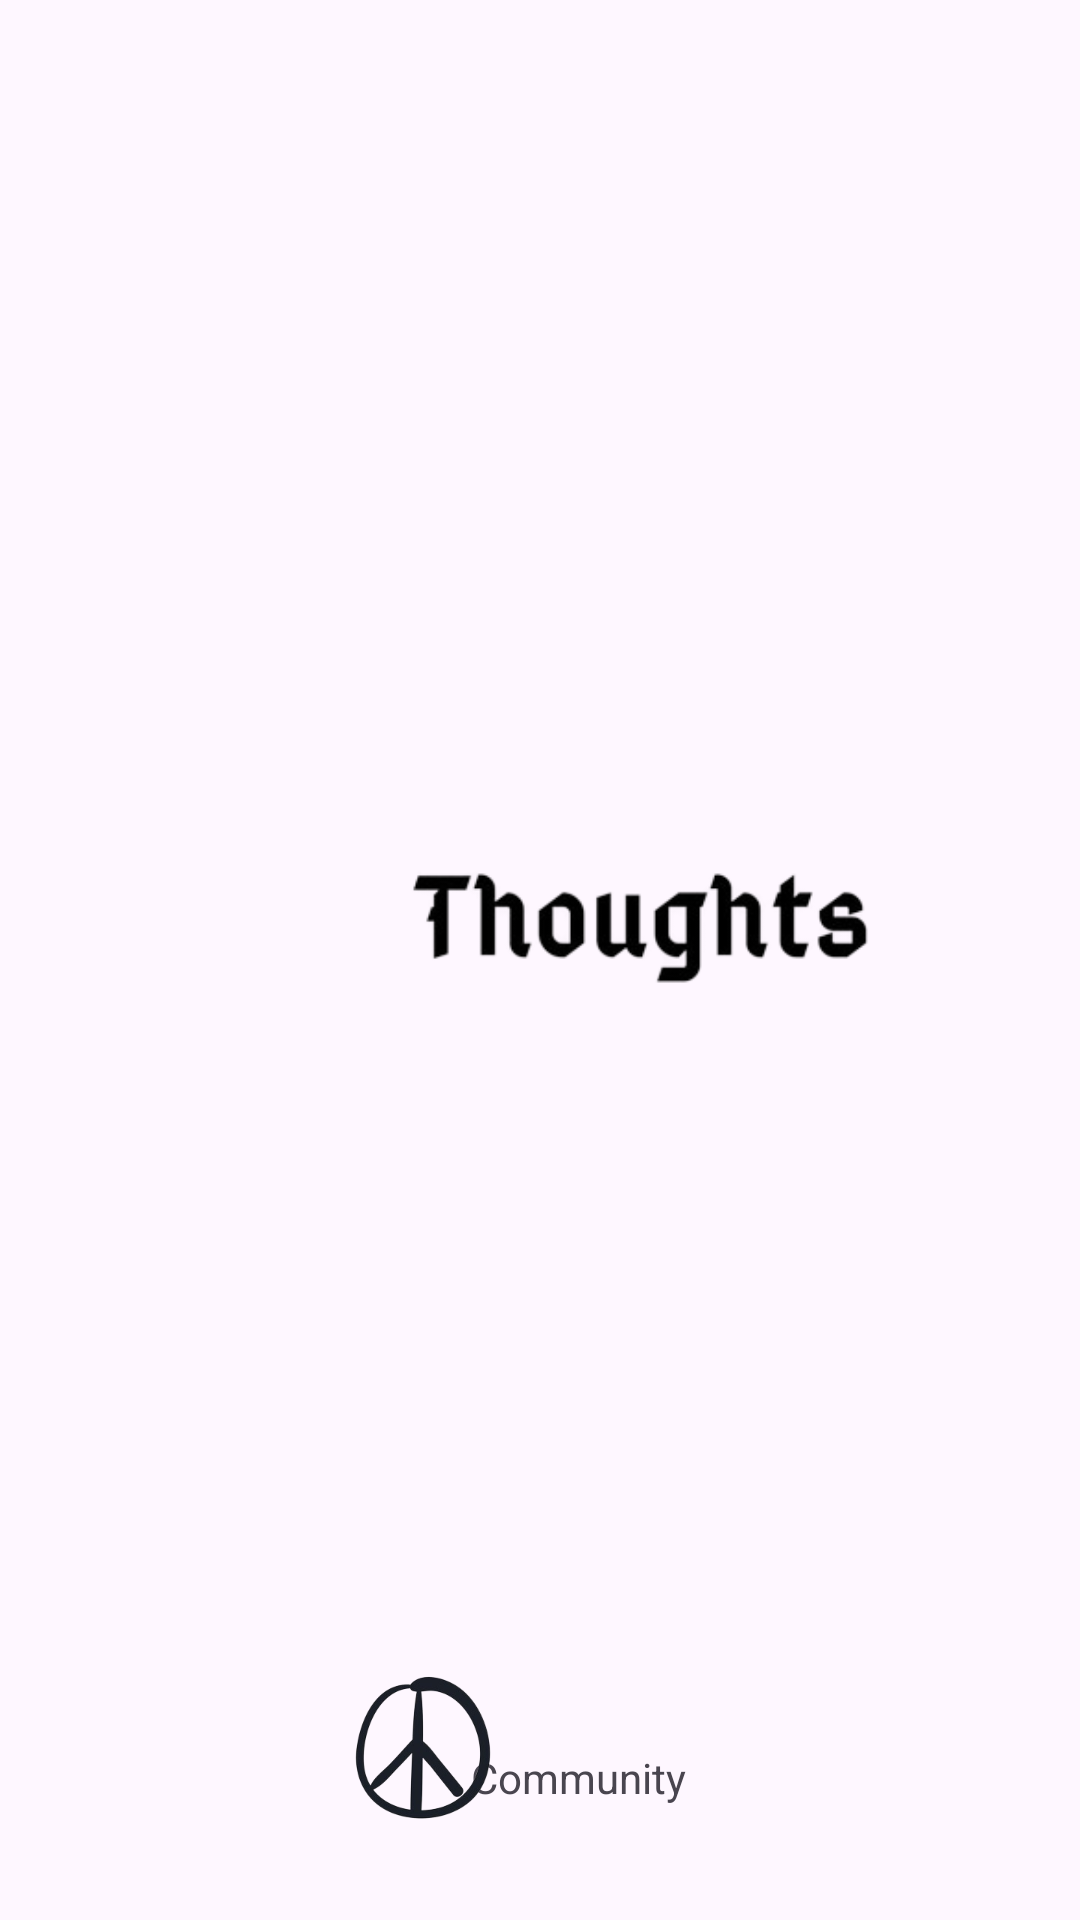

Locate icon controls on the screen. Image size 1080x1920, boxes as {"x1": x1, "y1": y1, "x2": x2, "y2": y2}.
peace: {"x1": 355, "y1": 1677, "x2": 497, "y2": 1819}
